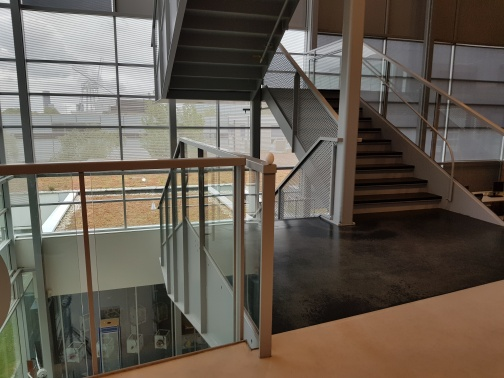egg: (262, 150, 277, 167)
